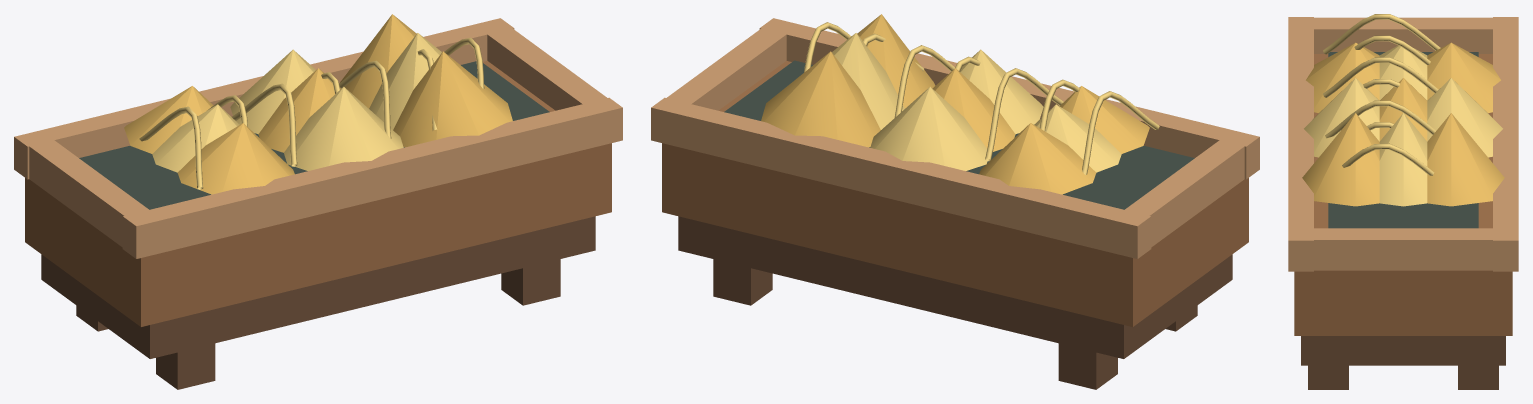
Rendered from feed-trough.glb.
The picture shows the model from 3 angles, left to right: view 1: azimuth 30°, elevation 25°; view 2: azimuth 150°, elevation 25°; view 3: azimuth 270°, elevation 25°; orthographic projection. The views are drawn at different scales.
Visible parts, largest first — view 1: feed-trough_wood, feed-trough_woodLight, feed-trough_woodDark, feed-trough_hay, feed-trough_hayLight, feed-trough_shadow; view 2: feed-trough_wood, feed-trough_woodLight, feed-trough_woodDark, feed-trough_hay, feed-trough_hayLight, feed-trough_shadow; view 3: feed-trough_woodLight, feed-trough_hay, feed-trough_wood, feed-trough_hayLight, feed-trough_woodDark, feed-trough_shadow.
Boxes of the visible parts, <box> form: feed-trough_wood: <box>25,61,611,326</box>; feed-trough_woodLight: <box>14,18,622,258</box>; feed-trough_woodDark: <box>41,216,595,389</box>; feed-trough_hay: <box>124,14,512,194</box>; feed-trough_hayLight: <box>139,33,484,189</box>; feed-trough_shadow: <box>79,61,549,209</box>; feed-trough_wood: <box>662,61,1248,326</box>; feed-trough_woodLight: <box>651,18,1259,258</box>; feed-trough_woodDark: <box>678,216,1232,389</box>; feed-trough_hay: <box>761,14,1149,194</box>; feed-trough_hayLight: <box>804,22,1159,174</box>; feed-trough_shadow: <box>724,60,1194,209</box>; feed-trough_woodLight: <box>1288,17,1518,271</box>; feed-trough_hay: <box>1302,42,1504,206</box>; feed-trough_wood: <box>1294,54,1512,335</box>; feed-trough_hayLight: <box>1304,14,1502,206</box>; feed-trough_woodDark: <box>1301,336,1505,389</box>; feed-trough_shadow: <box>1328,52,1478,228</box>.
Bounding box in the file's own units: 1.55 × 0.7592 × 0.675.
